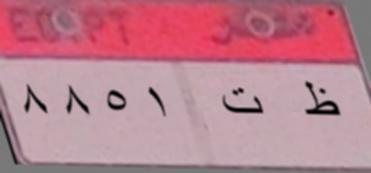1: (141, 74, 171, 126)
5: (102, 85, 128, 122)
8: (18, 76, 50, 120), (61, 84, 92, 121)
Thaa: (298, 74, 339, 125)
taa: (218, 83, 268, 122)
